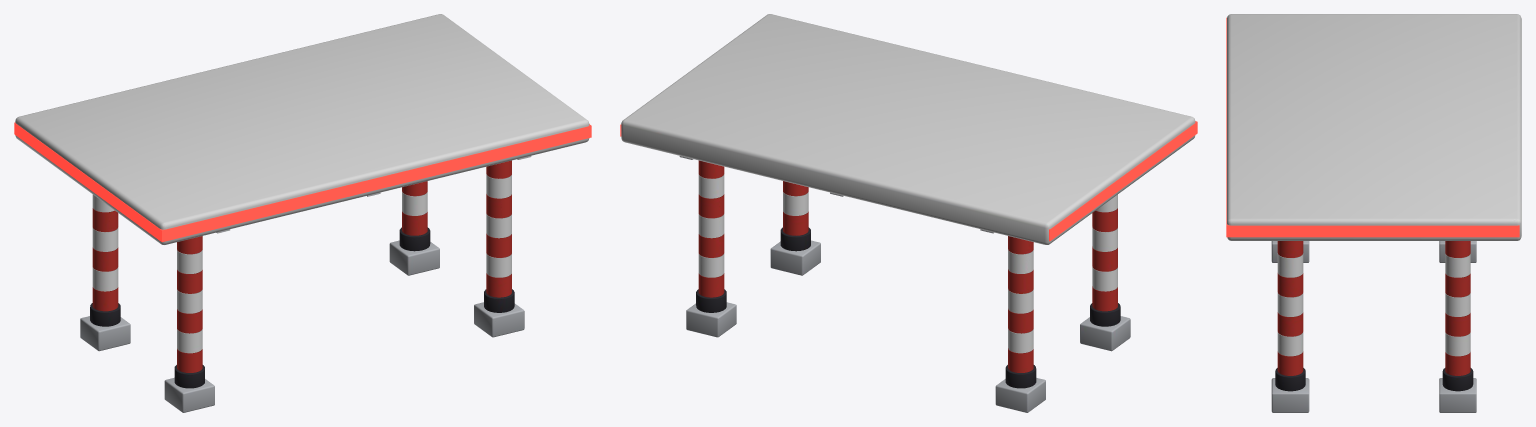
Rendered from trumua-gas-canopy.glb.
The picture shows the model from 3 angles, left to right: view 1: azimuth 30°, elevation 25°; view 2: azimuth 150°, elevation 25°; view 3: azimuth 270°, elevation 25°; orthographic projection.
Parts seen in each view (by area): view 1: trumua-gas-canopy; view 2: trumua-gas-canopy; view 3: trumua-gas-canopy.
Boxes of the visible parts, box(x1,y1,x2,y2) form: trumua-gas-canopy: box(14, 14, 591, 412); trumua-gas-canopy: box(620, 14, 1197, 412); trumua-gas-canopy: box(1226, 14, 1521, 412).
Size of the model in its own units: 10 by 4.8 by 5.99.
Materials: 2 (1 with a texture image).
